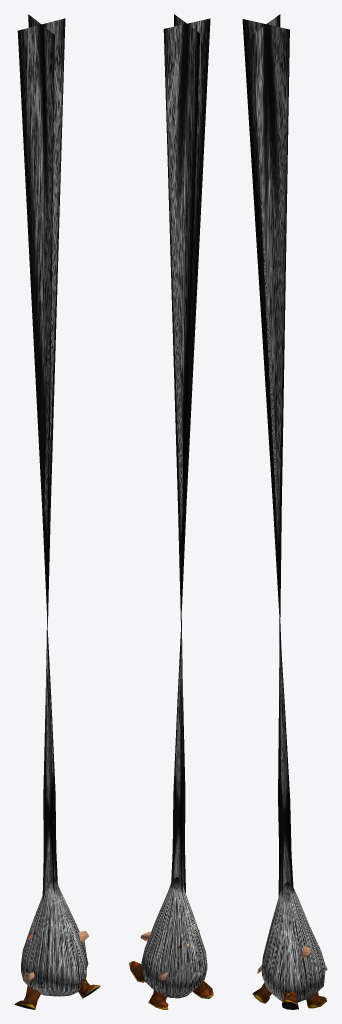
The model's file is INST_SB_DWARFCOCOON.fbx.
3 renders of one model, left to right at view 1: azimuth 30°, elevation 25°; view 2: azimuth 210°, elevation 25°; view 3: azimuth 330°, elevation 25°, orthographic.
Visible parts, largest first — view 1: INST_SB_DWARFCOCOON; view 2: INST_SB_DWARFCOCOON; view 3: INST_SB_DWARFCOCOON.
Part boxes in pixels (left/top/right/bottom): INST_SB_DWARFCOCOON: left=14, top=14, right=100, bottom=1009; INST_SB_DWARFCOCOON: left=129, top=14, right=213, bottom=1009; INST_SB_DWARFCOCOON: left=242, top=14, right=327, bottom=1009.
Bounding box in the file's own units: 10732 × 139029 × 10695.
Materials: 5 (5 with a texture image).
